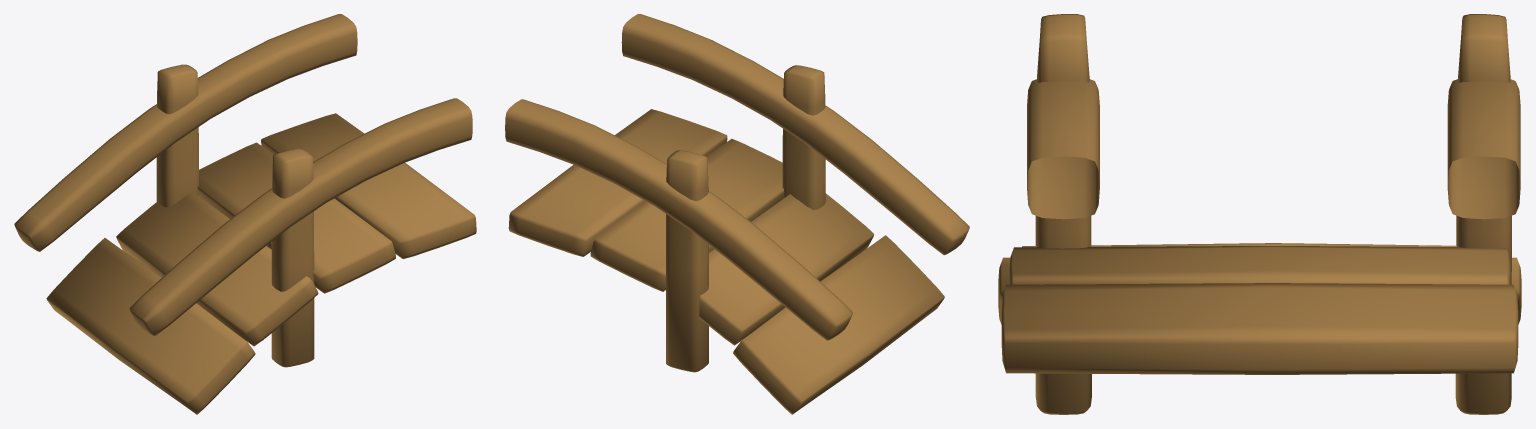
Rendered from Bridge_Modular.glb.
The picture shows the model from 3 angles, left to right: view 1: azimuth 30°, elevation 25°; view 2: azimuth 150°, elevation 25°; view 3: azimuth 270°, elevation 25°; orthographic projection. The views are drawn at different scales.
Parts seen in each view (by area): view 1: Bridge_Modular; view 2: Bridge_Modular; view 3: Bridge_Modular.
Boxes of the visible parts, x1=… form: Bridge_Modular: x1=14, y1=14, x2=476, y2=414; Bridge_Modular: x1=505, y1=14, x2=969, y2=414; Bridge_Modular: x1=998, y1=14, x2=1521, y2=414.
Size of the model in its own units: 2.95 by 2.01 by 2.24.
